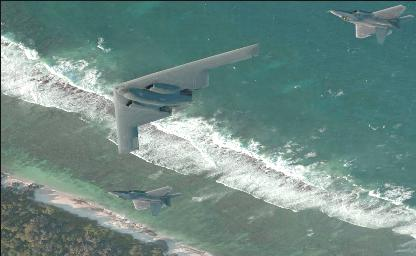B1: (112, 41, 260, 154)
F18: (328, 2, 414, 43), (108, 184, 180, 215)
